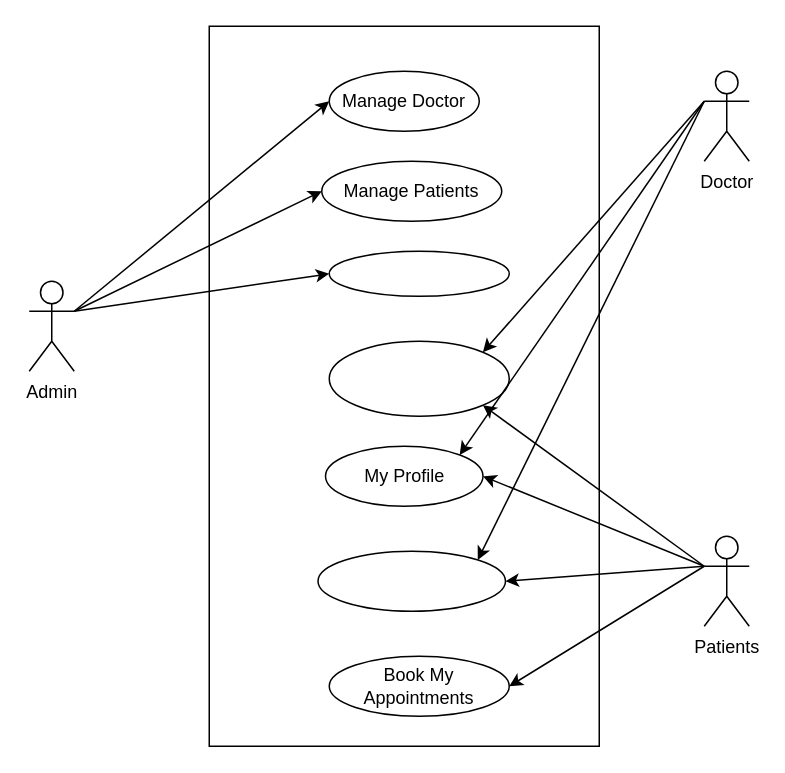
Image size: 785x773. Some labels were removed from this diagram. The box of each missing label's shape, as (x1, y1, x2, y2) in pixels:
Appointments: (328, 250, 509, 296)
My Appointments: (316, 550, 506, 611)
Queries: (328, 340, 509, 416)
